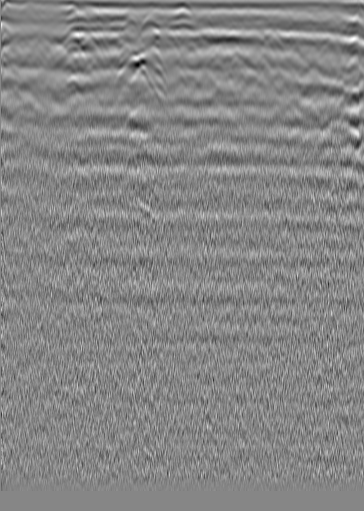가스: (124, 145, 156, 172)
상수: (293, 9, 313, 29)
오수: (32, 31, 52, 51)
우수: (172, 1, 192, 21)
